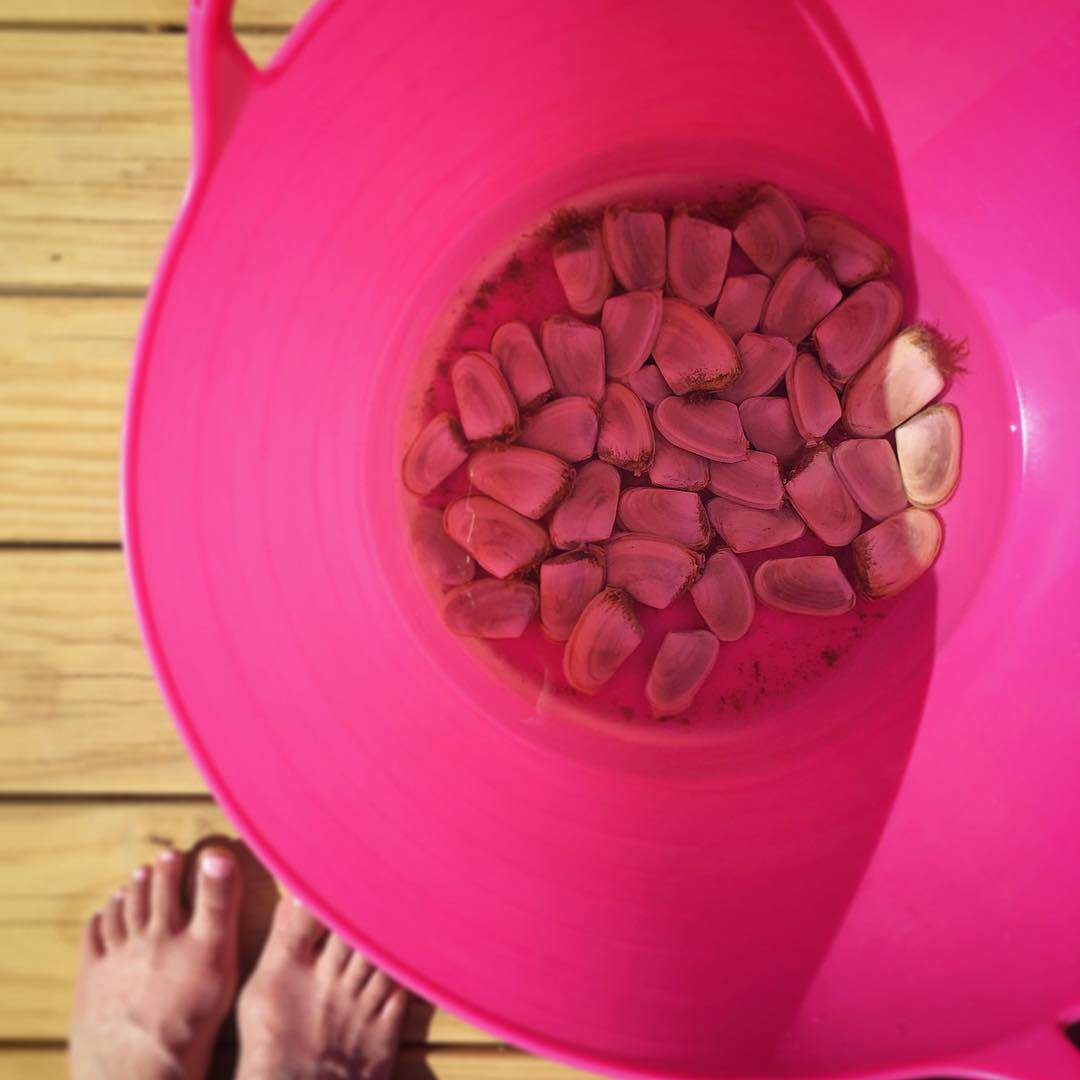tuatua: (837, 326, 946, 442), (841, 503, 956, 602), (439, 494, 556, 583), (811, 276, 906, 385), (465, 440, 581, 525), (780, 434, 862, 552), (654, 296, 744, 398), (562, 583, 641, 696), (758, 252, 845, 351), (650, 386, 757, 464), (599, 528, 696, 613), (729, 180, 812, 279), (806, 200, 896, 291), (891, 401, 964, 513), (831, 433, 915, 526), (432, 573, 541, 644), (447, 348, 522, 447), (601, 200, 676, 298), (534, 539, 603, 645), (613, 481, 715, 552), (544, 461, 622, 552), (754, 551, 861, 617), (664, 213, 736, 309), (688, 548, 757, 646), (600, 285, 666, 384), (486, 320, 556, 413), (537, 312, 609, 401), (647, 629, 722, 714), (399, 406, 469, 497), (783, 351, 846, 450), (592, 379, 657, 472), (519, 395, 604, 464), (552, 220, 611, 315), (707, 495, 807, 551), (710, 441, 788, 511), (728, 330, 797, 402), (739, 394, 806, 466), (713, 270, 773, 342)
